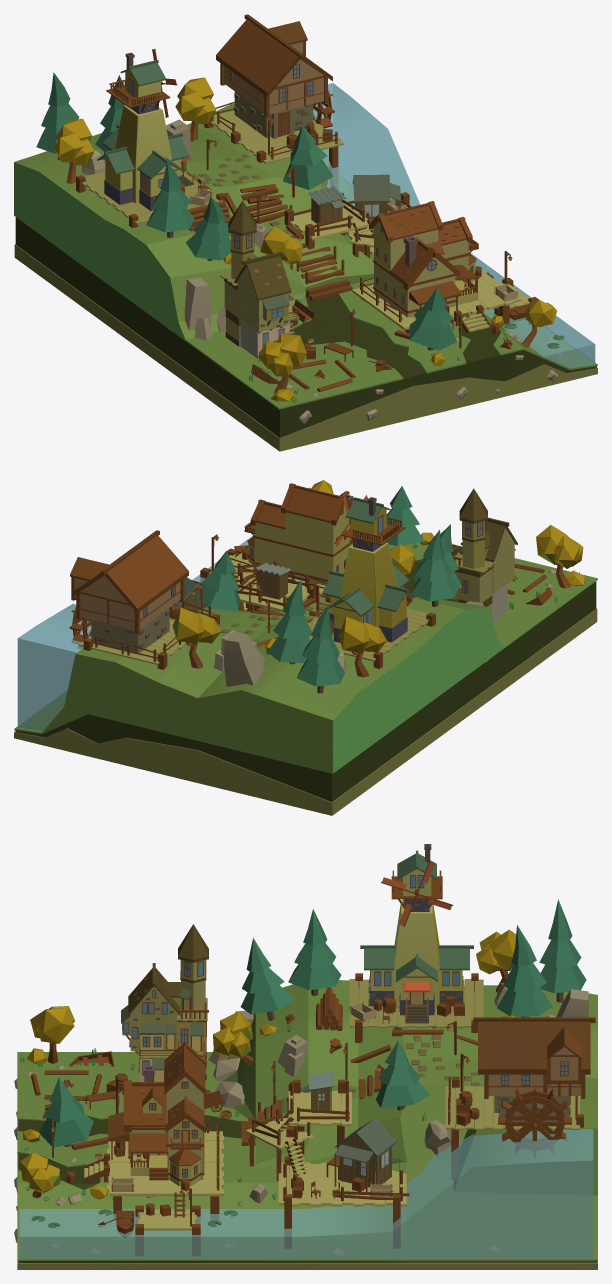
The picture shows the model from 3 angles, top to bottom: view 1: azimuth 30°, elevation 25°; view 2: azimuth 150°, elevation 25°; view 3: azimuth 270°, elevation 25°; orthographic projection. The views are drawn at different scales.
Parts seen in each view (by area): view 1: Soil, Tree_2, B_House_1, B_House_5, Water, B_House_4, Tree_1, B_House_3, Wood, Rock, Wood_floor_1, Wood_floor_3 (+12 smaller); view 2: Soil, Tree_2, B_House_5, B_House_1, B_House_4, Water, Tree_1, B_House_3, Rock, Wood_floor_3, Wood_floor_2, Wood_floor_4 (+8 smaller); view 3: Soil, Water, Tree_2, B_House_1, B_House_5, Wood_floor_2, B_House_4, Wood_floor_1, Tree_1, B_House_3, Rock, Wood (+19 smaller).
Boxes of the visible parts, <box> form: Soil: <box>14,103,597,451</box>; Tree_2: <box>36,72,456,350</box>; B_House_1: <box>369,201,479,317</box>; B_House_5: <box>216,14,332,138</box>; Water: <box>313,83,595,367</box>; B_House_4: <box>97,52,194,210</box>; Tree_1: <box>53,77,556,393</box>; B_House_3: <box>224,200,292,358</box>; Wood: <box>181,161,409,391</box>; Rock: <box>82,119,563,423</box>; Wood_floor_1: <box>352,266,538,333</box>; Wood_floor_3: <box>204,101,344,188</box>; Soil: <box>14,542,597,815</box>; Tree_2: <box>192,486,462,693</box>; B_House_5: <box>70,530,188,654</box>; B_House_1: <box>244,483,353,585</box>; B_House_4: <box>322,497,414,642</box>; Water: <box>17,535,252,730</box>; Tree_1: <box>172,480,583,677</box>; B_House_3: <box>454,488,517,621</box>; Rock: <box>214,570,555,686</box>; Wood_floor_3: <box>78,600,219,669</box>; Wood_floor_2: <box>192,560,316,611</box>; Wood_floor_4: <box>307,608,436,668</box>; Soil: <box>17,980,597,1269</box>; Water: <box>19,1129,593,1258</box>; Tree_2: <box>39,899,586,1147</box>; B_House_1: <box>108,1042,205,1186</box>; B_House_5: <box>473,1017,595,1121</box>; Wood_floor_2: <box>245,1079,409,1248</box>; B_House_4: <box>360,844,473,1023</box>; Wood_floor_1: <box>83,1119,223,1255</box>; Tree_1: <box>20,929,516,1198</box>; B_House_3: <box>122,924,208,1081</box>; Rock: <box>14,982,588,1255</box>; Wood: <box>31,987,477,1150</box>.
Size of the model in its own units: 4.7 by 3.49 by 6.72.
38 materials, 38 textured.
